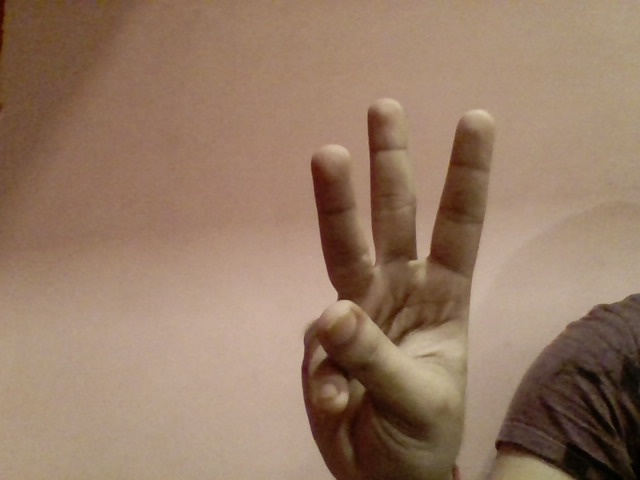w: (274, 87, 503, 469)
